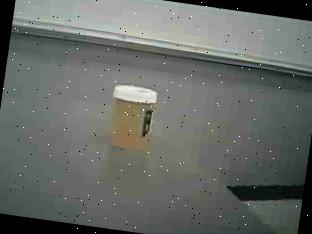Bottle B: (103, 79, 168, 160)
